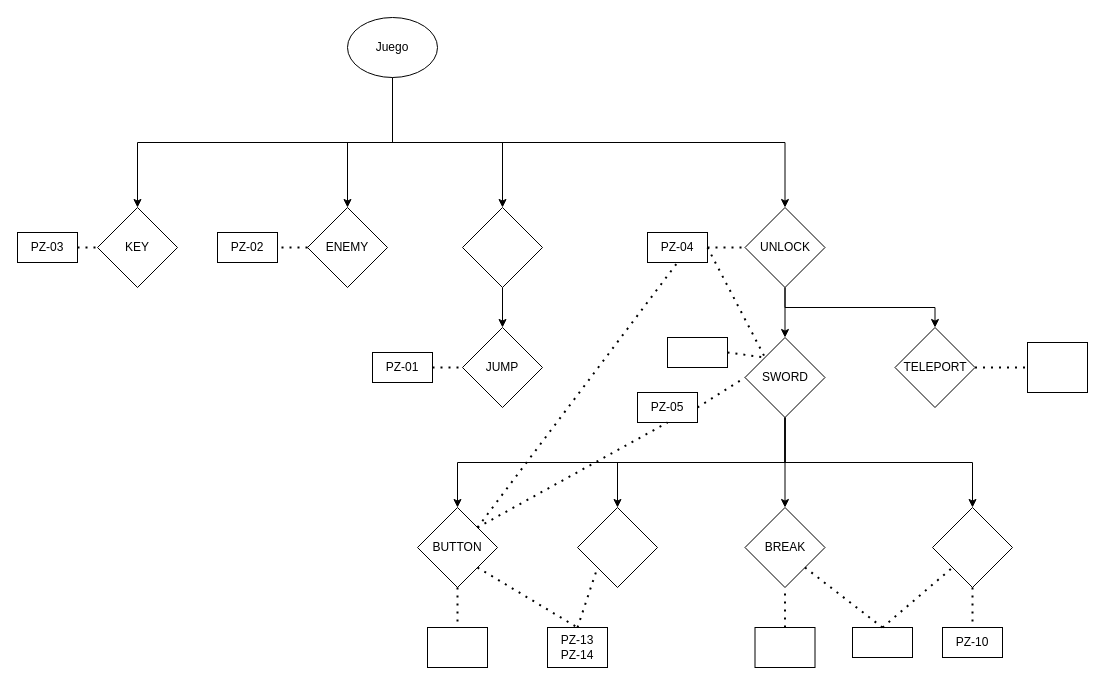
This 1105x685 diagram has some shape labels left out. The shapes that lost their labels are listed below. From the top down, each one's centre as x and y in pixels, then its label:
(x=502, y=247): MOVE
(x=697, y=352): PZ-06
(x=1057, y=367): PZ-15 PZ-16 PZ-17
(x=617, y=547): BEAM
(x=972, y=547): POGO
(x=457, y=647): PZ-11 PZ-12
(x=784, y=647): PZ-07 PZ-09
(x=882, y=642): PZ-08
